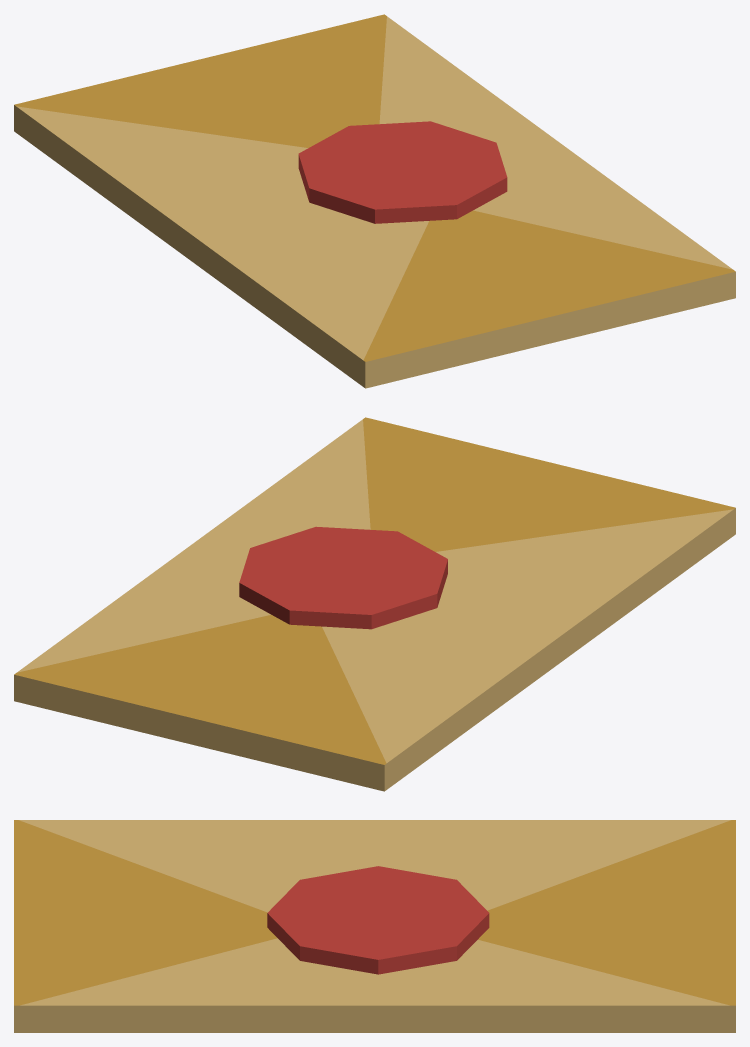
The model's file is Mail.fbx.
The picture shows the model from 3 angles, top to bottom: view 1: azimuth 30°, elevation 25°; view 2: azimuth 150°, elevation 25°; view 3: azimuth 270°, elevation 25°; orthographic projection. The views are drawn at different scales.
Visible parts, largest first — view 1: Mail; view 2: Mail; view 3: Mail.
Part boxes in pixels (x1,y1,x2,y2): Mail: (14,14,735,388); Mail: (14,417,735,791); Mail: (14,820,735,1032).
Size of the model in its own units: 8.42 by 0.887 by 13.83.
